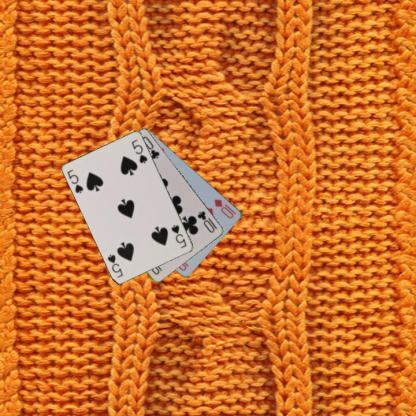10c: (195, 209, 216, 234)
10d: (212, 196, 238, 219)
5s: (65, 167, 85, 195), (168, 222, 187, 249)
